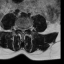CCS_stenosis: (22, 25, 24, 35)
LFS_stenosis: (25, 25, 28, 31)
LLS_normal: (24, 25, 25, 33)
RFS_normal: (17, 25, 20, 31)
RLS_stenosis: (20, 25, 22, 33)
